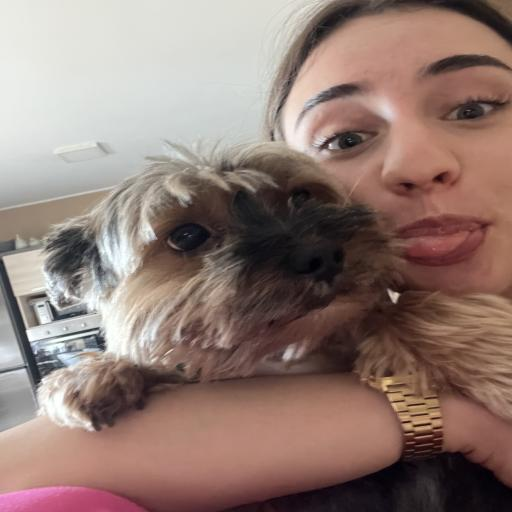masa: (227, 3, 512, 296)
